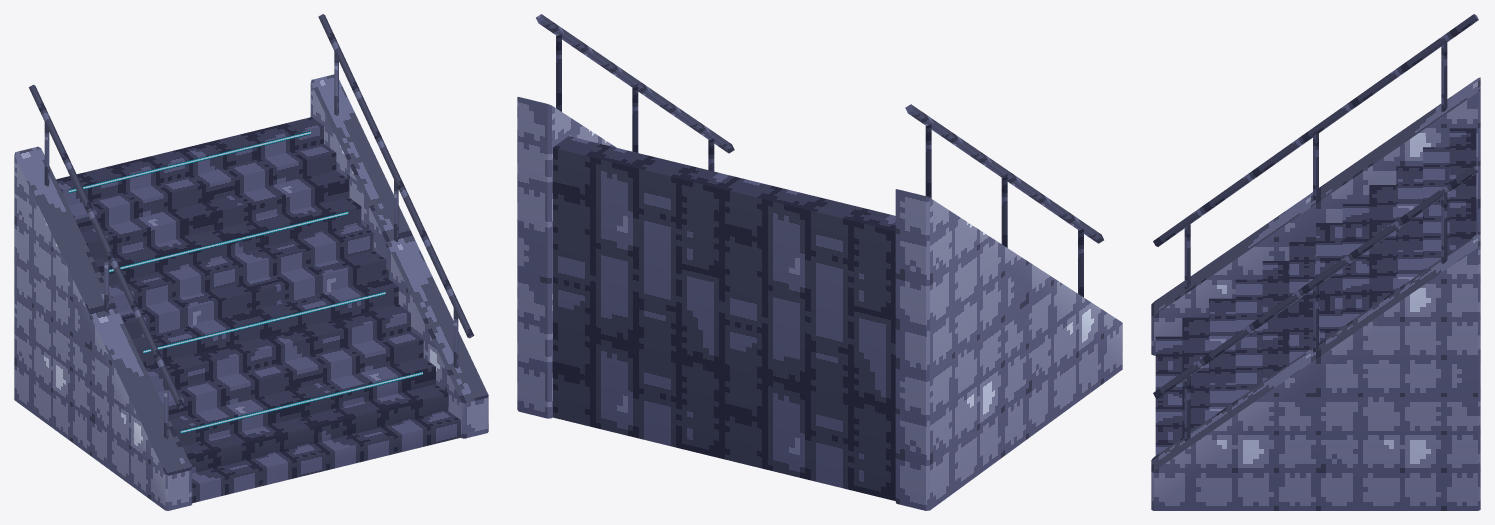
File: cystreet.stairs.glb
3 renders of one model, left to right at view 1: azimuth 30°, elevation 25°; view 2: azimuth 150°, elevation 25°; view 3: azimuth 270°, elevation 25°, orthographic. The views are drawn at different scales.
Visible parts, largest first — view 1: kit_flight, kit_rails, kit_card_nosing; view 2: kit_flight, kit_rails; view 3: kit_flight, kit_rails.
Part boxes in pixels (left/top/right/bottom): kit_flight: left=14, top=74, right=488, bottom=510; kit_rails: left=29, top=14, right=474, bottom=439; kit_card_nosing: left=68, top=131, right=422, bottom=433; kit_flight: left=517, top=97, right=1122, bottom=510; kit_rails: left=536, top=14, right=1103, bottom=297; kit_flight: left=1151, top=77, right=1480, bottom=510; kit_rails: left=1153, top=14, right=1478, bottom=440.
Bounding box in the file's own units: 4.8 × 4.44 × 3.94.
5 materials, 5 textured.
